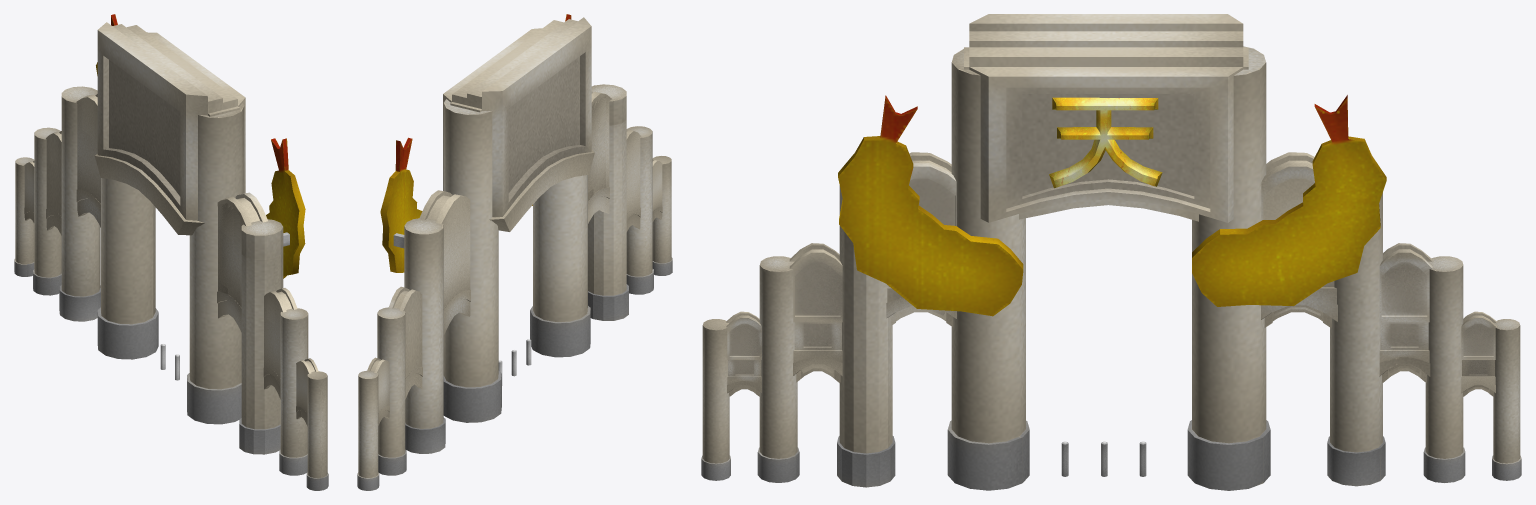
Rendered from gate2.fbx.
3 views of the same model, side by side, from view 1: azimuth 30°, elevation 25°; view 2: azimuth 150°, elevation 25°; view 3: azimuth 270°, elevation 25° (orthographic). The views are drawn at different scales.
Parts seen in each view (by area): view 1: pCube5, pCylinder6, pCylinder1, pCylinder10, pCylinder13, pCylinder11, pCube6, pCylinder14, pCube12, pCube9, pCylinder12, pCube7 (+4 smaller); view 2: pCube5, pCylinder1, pCylinder6, pCylinder13, pCylinder10, pCylinder14, pCube9, pCylinder11, pCube13, pCylinder15, pCube6, pCube10 (+4 smaller); view 3: pCube5, pCylinder1, pCylinder6, pCube13, pCube12, pCylinder10, pCylinder13, pCylinder14, pCylinder11, pCube10, pCube7, typeMesh1 (+6 smaller).
Part boxes in pixels (bbox=[...]): pCube5: bbox=[95, 22, 245, 235]; pCylinder6: bbox=[187, 103, 244, 424]; pCylinder1: bbox=[97, 178, 158, 359]; pCylinder10: bbox=[239, 219, 283, 454]; pCylinder13: bbox=[59, 86, 100, 321]; pCylinder11: bbox=[279, 308, 308, 475]; pCube6: bbox=[217, 192, 267, 332]; pCylinder14: bbox=[33, 127, 61, 295]; pCube12: bbox=[266, 138, 305, 278]; pCube9: bbox=[76, 94, 100, 227]; pCylinder12: bbox=[306, 371, 328, 490]; pCube7: bbox=[263, 288, 297, 399]; pCube5: bbox=[443, 17, 594, 231]; pCylinder1: bbox=[443, 99, 501, 422]; pCylinder6: bbox=[530, 175, 590, 357]; pCylinder13: bbox=[404, 218, 445, 453]; pCylinder10: bbox=[588, 84, 628, 320]; pCylinder14: bbox=[377, 307, 406, 475]; pCube9: bbox=[419, 190, 470, 335]; pCylinder11: bbox=[626, 126, 653, 294]; pCube13: bbox=[380, 137, 422, 272]; pCylinder15: bbox=[357, 370, 379, 490]; pCube6: bbox=[588, 92, 611, 223]; pCube10: bbox=[388, 286, 422, 399]; pCube5: bbox=[964, 14, 1248, 222]; pCylinder1: bbox=[1187, 46, 1270, 490]; pCylinder6: bbox=[947, 49, 1029, 490]; pCube13: bbox=[1192, 95, 1386, 306]; pCube12: bbox=[838, 95, 1023, 316]; pCylinder10: bbox=[837, 186, 895, 487]; pCylinder13: bbox=[1327, 192, 1385, 486]; pCylinder14: bbox=[1423, 256, 1465, 482]; pCylinder11: bbox=[757, 256, 799, 482]; pCube10: bbox=[1379, 243, 1432, 382]; pCube7: bbox=[789, 243, 842, 382]; typeMesh1: bbox=[1049, 97, 1162, 188].
Bounding box in the file's own units: 55.62 × 249 × 421.
